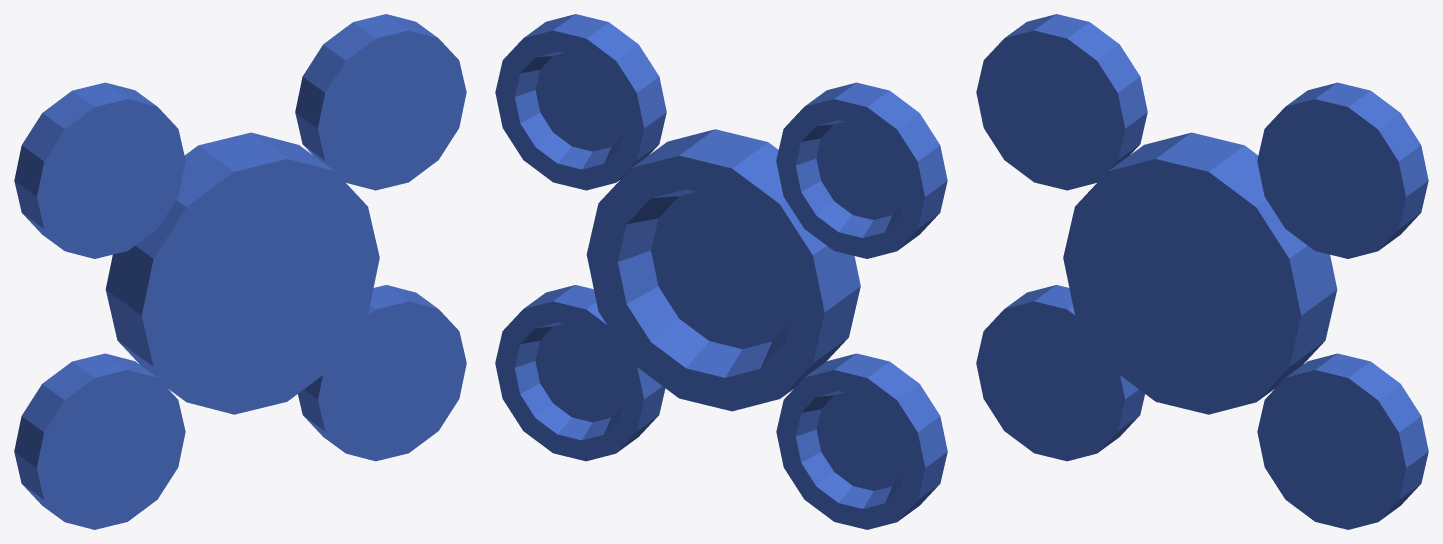
The model's file is Dropship_04_Thruster_Joints_Blue.fbx.
3 renders of one model, left to right at view 1: azimuth 30°, elevation 25°; view 2: azimuth 150°, elevation 25°; view 3: azimuth 330°, elevation 25°, orthographic.
Parts seen in each view (by area): view 1: Dropship_04_Thruster_Joints_Blue; view 2: Dropship_04_Thruster_Joints_Blue; view 3: Dropship_04_Thruster_Joints_Blue.
Part boxes in pixels (x1=…): Dropship_04_Thruster_Joints_Blue: x1=14, y1=14, x2=466, y2=529; Dropship_04_Thruster_Joints_Blue: x1=495, y1=14, x2=947, y2=529; Dropship_04_Thruster_Joints_Blue: x1=976, y1=14, x2=1428, y2=529.
Size of the model in its own units: 289 by 271 by 42.
Materials: 1 (1 with a texture image).
